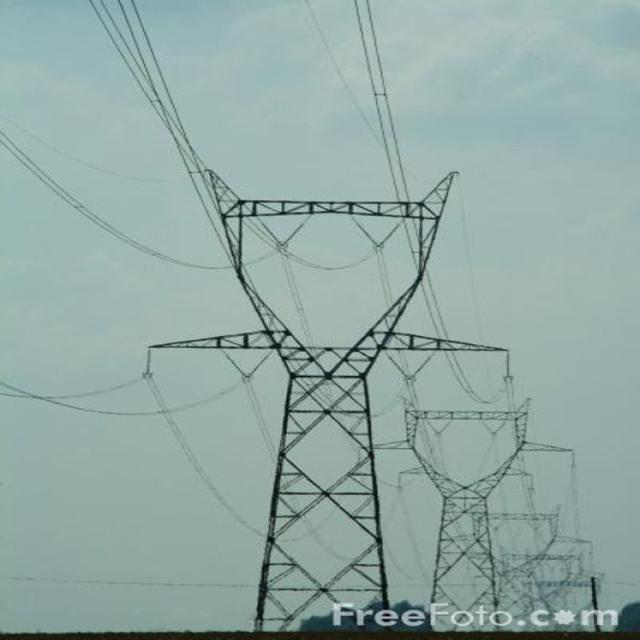non-critical vegetation: (172, 166, 452, 626), (398, 400, 530, 617)
